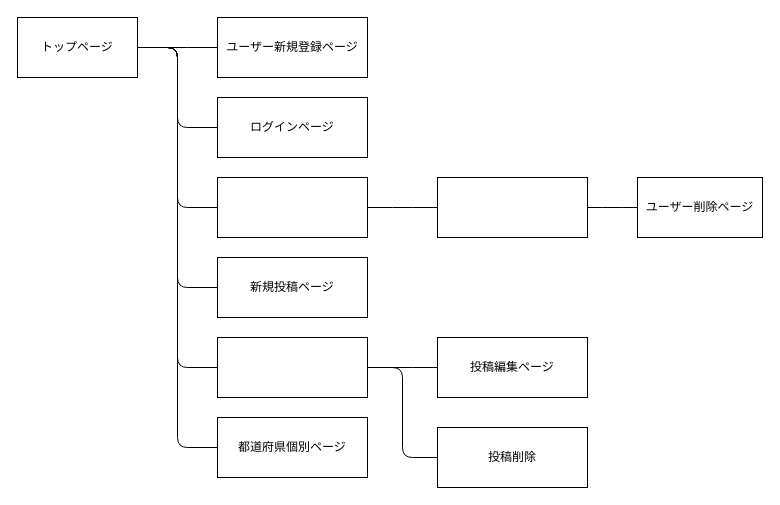
The diagram is 780 pixels wide and 505 high, and some of its shapes have lost their labels. Here are the shapes that lost their labels. From the top down, the centre of each, then its label:
pixel 292 207: ユーザーマイページ
pixel 512 207: ユーザー情報更新ページ
pixel 292 367: 投稿詳細ページ
